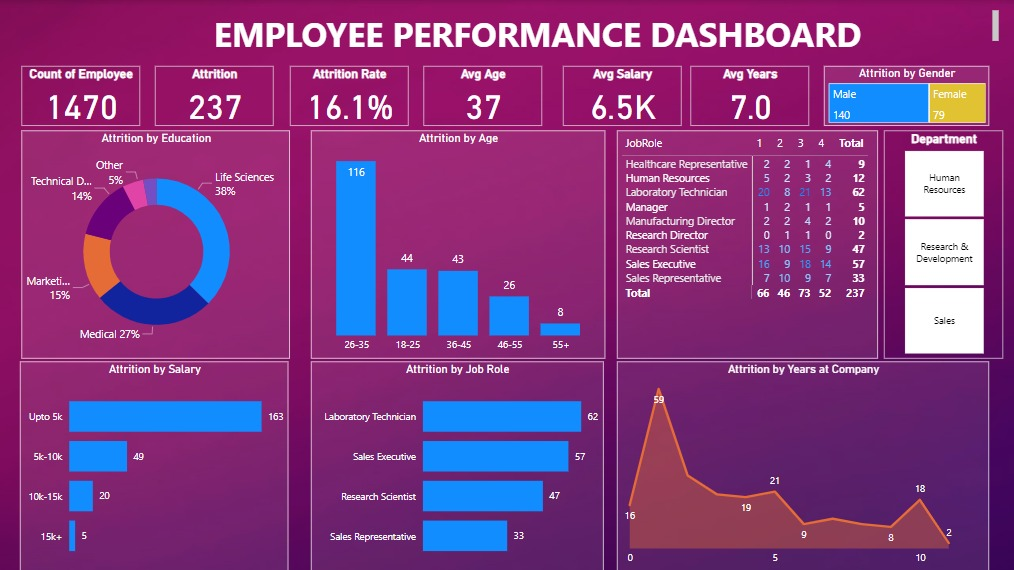

The page's visual inventory and layout, read from the dashboard file:
{"tool":"powerbi","page":{"name":"Page 1","canvas":[1280,720],"ordinal":0},"visuals":[{"type":"card","title":"Count of Employee","fields":{"Values":["CountNonNull(HR_Analytics.EmpID)"]},"box":[28.3,83.2,149.3,75.6],"z":0},{"type":"card","title":"Attrition","fields":{"Values":["Sum(HR_Analytics.AttritionCount)"]},"box":[196.5,83.2,149.3,75.6],"z":1000},{"type":"card","title":"Attrition Rate","fields":{"Values":["HR_Analytics.AttritionRate"]},"box":[366.6,83.2,149.3,75.6],"z":2000},{"type":"card","title":"Avg Age","fields":{"Values":["Avg(HR_Analytics.Age)"]},"box":[534.8,83.2,149.3,75.6],"z":3000},{"type":"card","title":"Avg Salary","fields":{"Values":["Avg(HR_Analytics.MonthlyIncome)"]},"box":[710.6,83.2,149.3,75.6],"z":4000},{"type":"card","title":"Avg Years","fields":{"Values":["Avg(HR_Analytics.YearsAtCompany)"]},"box":[871.2,83.2,149.3,75.6],"z":5000},{"type":"donutChart","title":"Attrition by Education","fields":{"Category":["HR_Analytics.EducationField"],"Y":["Sum(HR_Analytics.AttritionCount)"]},"box":[28.3,164.4,338.3,287.2],"z":6000},{"type":"columnChart","title":"Attrition by Age","fields":{"Category":["HR_Analytics.AgeGroup"],"Y":["Sum(HR_Analytics.AttritionCount)"]},"box":[393.1,164.4,370.4,287.2],"z":7000},{"type":"pivotTable","fields":{"Rows":["HR_Analytics.JobRole"],"Columns":["HR_Analytics.JobSatisfaction"],"Values":["Sum(HR_Analytics.AttritionCount)"]},"box":[778.6,164.4,328.8,287.2],"z":8000},{"type":"clusteredBarChart","title":"Attrition by Salary","fields":{"Category":["HR_Analytics.SalarySlab"],"Y":["Sum(HR_Analytics.AttritionCount)"]},"box":[26.5,455.4,338.3,264.6],"z":9000},{"type":"clusteredBarChart","title":"Attrition by Job Role","fields":{"Category":["HR_Analytics.JobRole"],"Y":["Sum(HR_Analytics.AttritionCount)"]},"box":[393.1,455.4,368.5,264.6],"z":10000},{"type":"areaChart","title":"Attrition by Years at Company","fields":{"Category":["HR_Analytics.YearsAtCompany"],"Y":["Sum(HR_Analytics.AttritionCount)"]},"box":[778.6,455.4,468.7,264.6],"z":11000},{"type":"treemap","title":"Attrition by Gender","fields":{"Group":["HR_Analytics.Gender"],"Values":["Sum(HR_Analytics.AttritionCount)"]},"box":[1039.4,83.2,207.9,75.6],"z":12000},{"type":"slicer","title":"Department","fields":{"Values":["HR_Analytics.Department"]},"box":[1115,164,150,287],"z":13000},{"type":"textbox","box":[100.2,7.6,1164.1,56.7],"z":14000}]}

Visuals, with their boxes in screenshot pixels (x1, y1, x2, y2), scaled from the page's 1280x720 canvas onto the 1014x570 screenshot:
"Count of Employee" card: rect(22, 66, 141, 126)
"Attrition" card: rect(156, 66, 274, 126)
"Attrition Rate" card: rect(290, 66, 409, 126)
"Avg Age" card: rect(424, 66, 542, 126)
"Avg Salary" card: rect(563, 66, 681, 126)
"Avg Years" card: rect(690, 66, 808, 126)
"Attrition by Education" donutChart: rect(22, 130, 290, 358)
"Attrition by Age" columnChart: rect(311, 130, 605, 358)
pivotTable - HR_Analytics.JobRole x HR_Analytics.JobSatisfaction: rect(617, 130, 877, 358)
"Attrition by Salary" clusteredBarChart: rect(21, 361, 289, 569)
"Attrition by Job Role" clusteredBarChart: rect(311, 361, 603, 569)
"Attrition by Years at Company" areaChart: rect(617, 361, 988, 569)
"Attrition by Gender" treemap: rect(823, 66, 988, 126)
"Department" slicer: rect(883, 130, 1002, 357)
textbox: rect(79, 6, 1002, 51)
